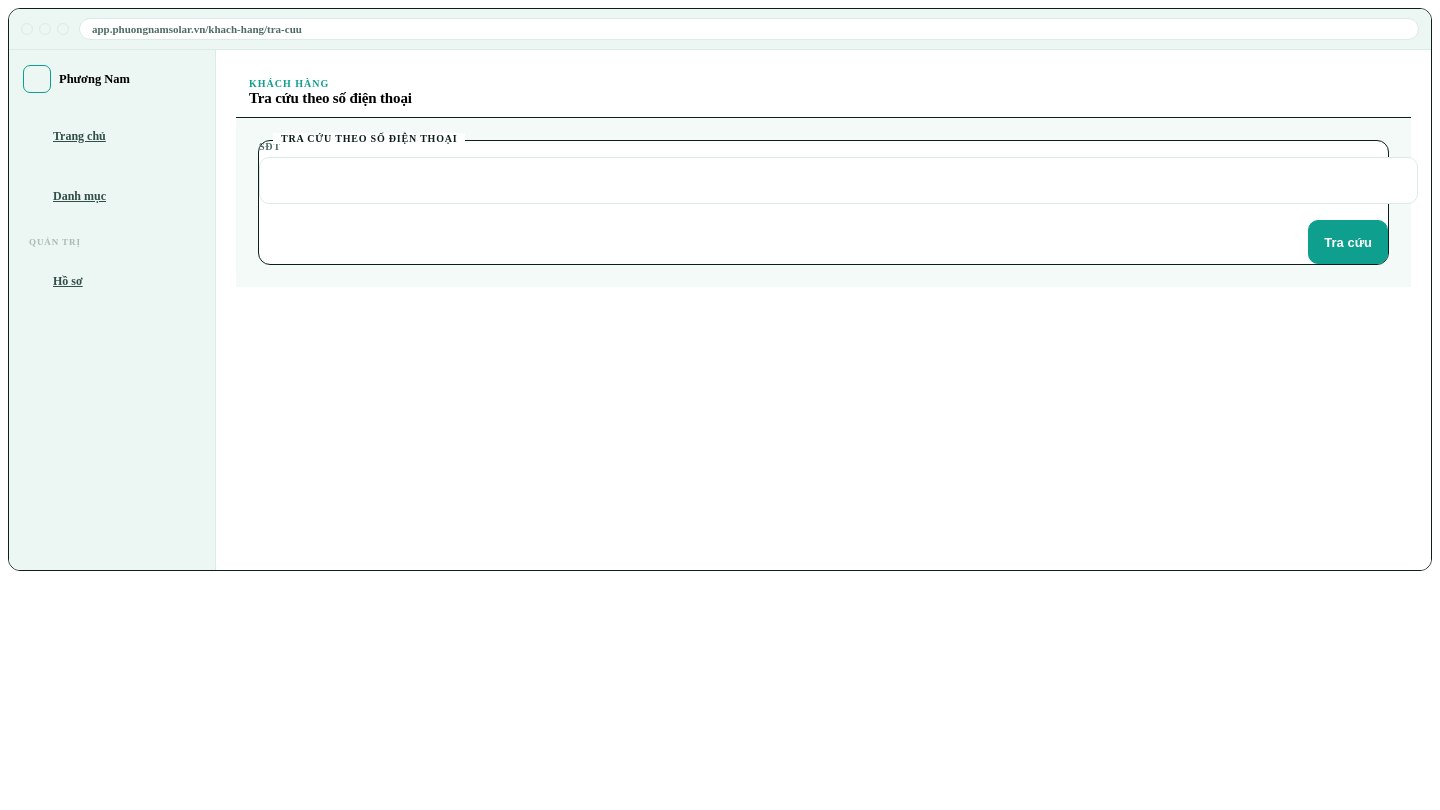
Test: smoke render — mọi màn web/src/screens › CustomerPickScreen — tra cứu ra khách cũ
In the field labelled "SĐT": (838, 180) left=259, top=157, right=1418, bottom=204, type "0903176968"
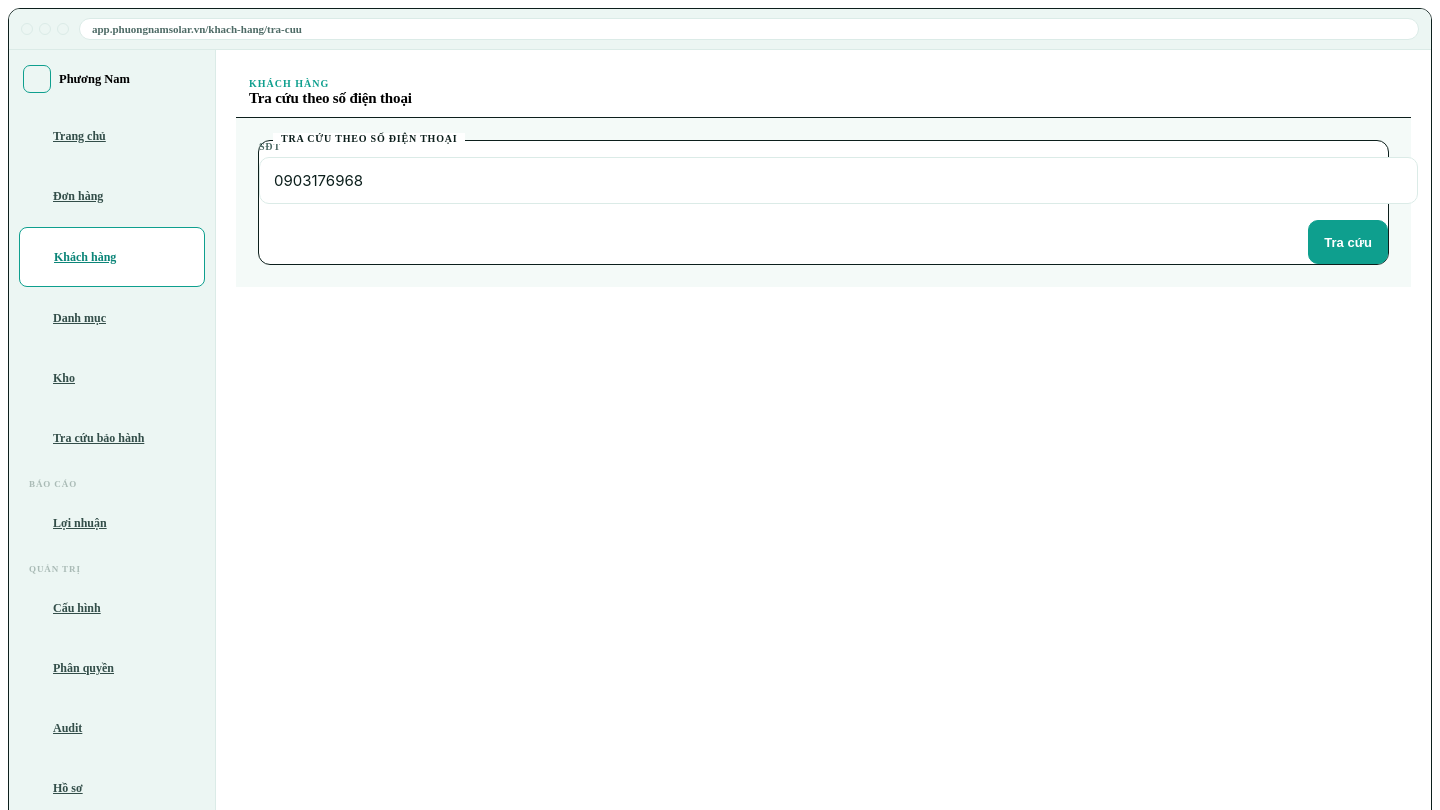
Click the button "Tra cứu": (1348, 242) left=1308, top=220, right=1388, bottom=264
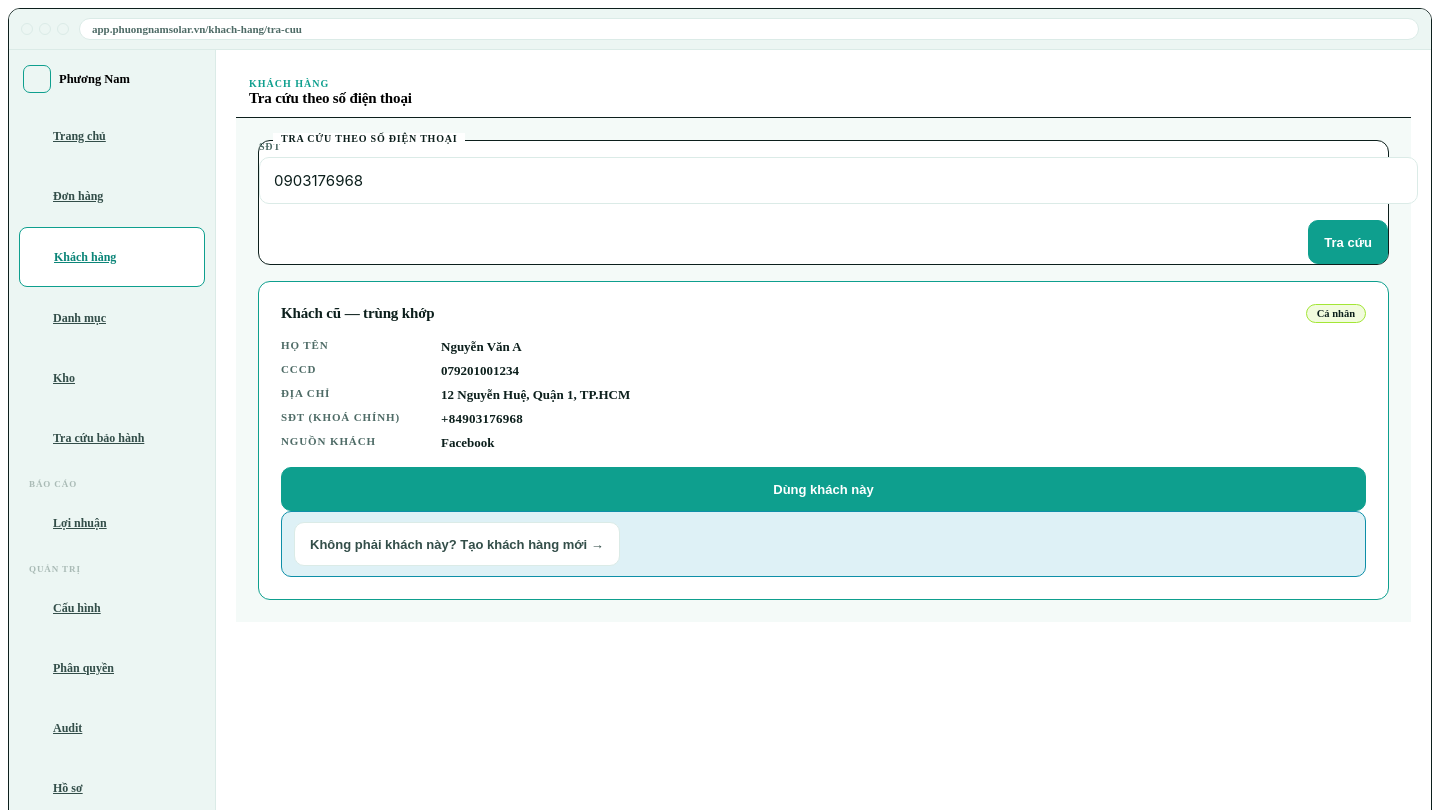
Check: the text "Khách cũ — trùng khớp" is shown, box left=281, top=305, right=434, bottom=322
Check: the button "Dùng khách này" is shown, box left=281, top=467, right=1366, bottom=511
